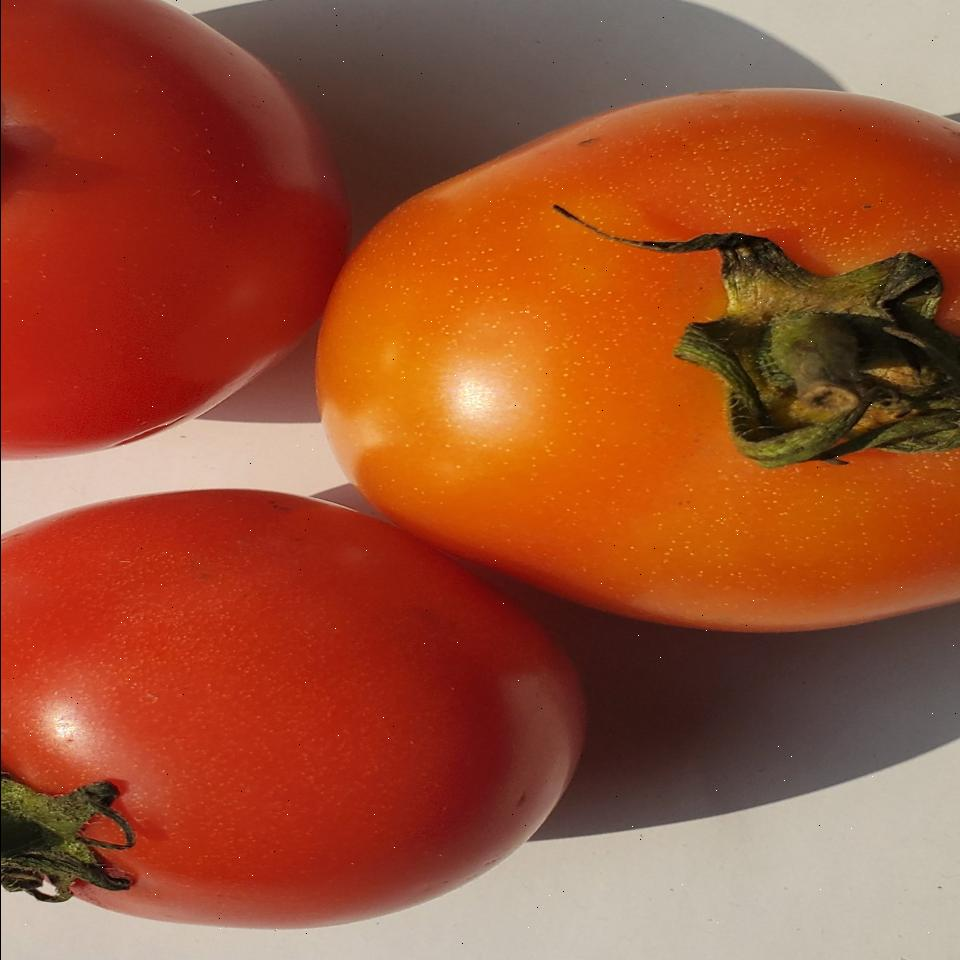Healthy: (296, 80, 960, 644), (0, 481, 599, 934), (0, 0, 357, 467)
